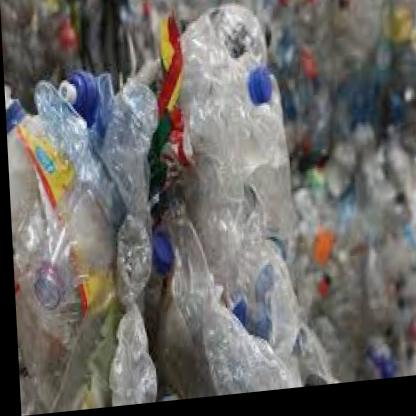Plastic: (33, 142, 137, 318), (164, 50, 282, 162), (23, 69, 109, 217)
